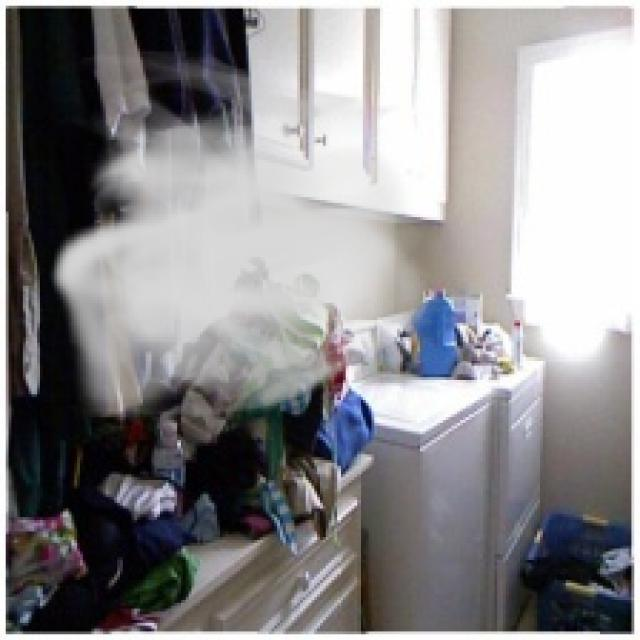Smoke: (48, 46, 440, 428)
